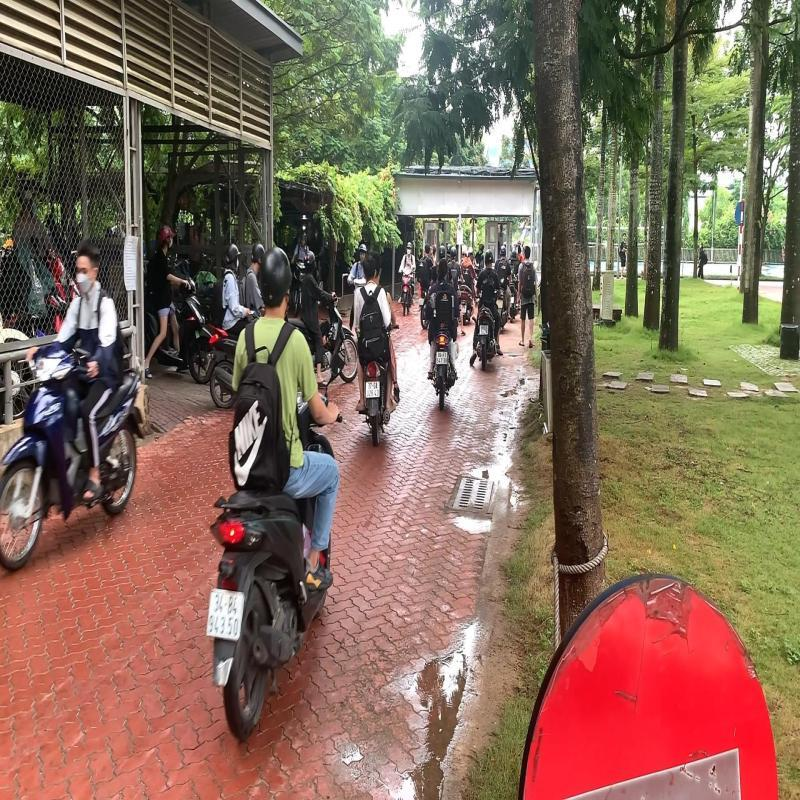helmet: (257, 247, 293, 311)
licenseplate: (204, 584, 247, 642), (364, 378, 382, 400), (434, 350, 449, 366)
motorcyclist: (205, 246, 344, 748), (354, 247, 403, 450), (422, 256, 461, 412)
nohelmet: (362, 253, 378, 282), (438, 258, 448, 278)
